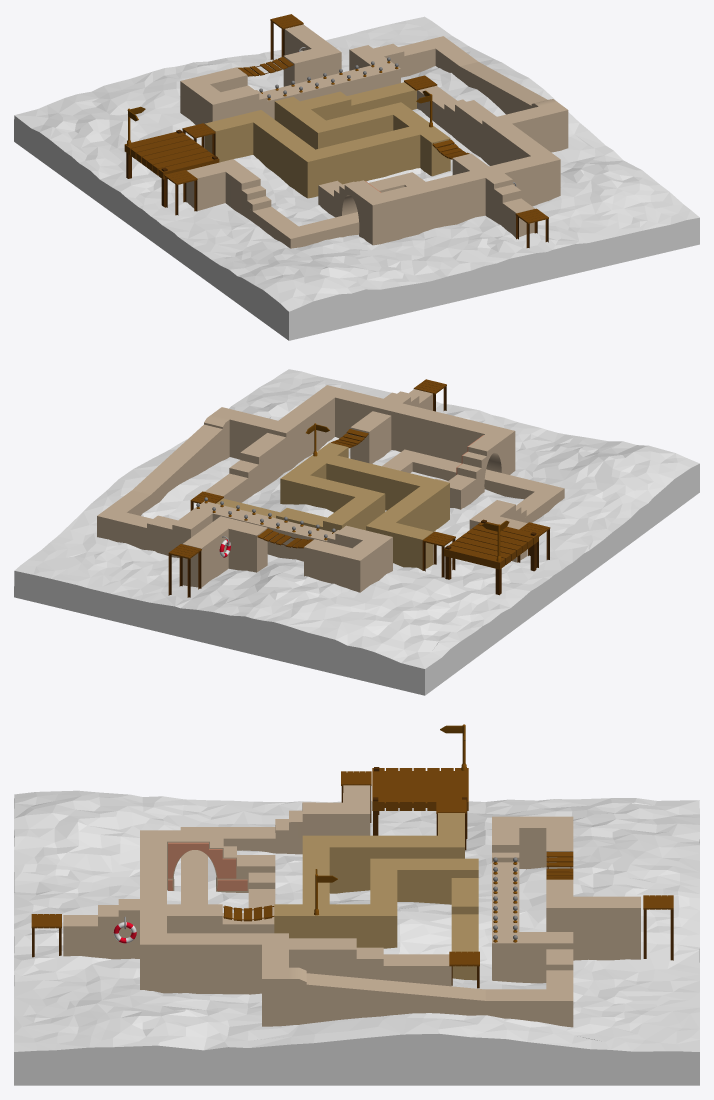
Rendered from Big_labyrinthe.fbx.
3 views of the same model, one above another, from view 1: azimuth 30°, elevation 25°; view 2: azimuth 150°, elevation 25°; view 3: azimuth 270°, elevation 25° (orthographic). The views are drawn at different scales.
Parts seen in each view (by area): view 1: Eau, Labyrinthe, Cube.003, Cube.002, Cube.001; view 2: Eau, Labyrinthe, Cube.003, Cube.002, Cube.001; view 3: Eau, Labyrinthe, Cube.003, Cube.002, Cube.001, Circle, Cube.
Part boxes in pixels (left/top/right/bottom): Eau: left=14, top=16, right=699, bottom=340; Labyrinthe: left=180, top=24, right=568, bottom=248; Cube.003: left=124, top=129, right=219, bottom=206; Cube.002: left=164, top=14, right=548, bottom=247; Cube.001: left=237, top=56, right=293, bottom=76; Eau: left=14, top=369, right=699, bottom=695; Labyrinthe: left=97, top=385, right=564, bottom=592; Cube.003: left=444, top=519, right=538, bottom=595; Cube.002: left=168, top=379, right=550, bottom=597; Cube.001: left=257, top=528, right=313, bottom=548; Eau: left=14, top=790, right=699, bottom=1085; Labyrinthe: left=63, top=785, right=640, bottom=1027; Cube.003: left=372, top=767, right=468, bottom=838; Cube.002: left=31, top=771, right=673, bottom=988; Cube.001: left=546, top=852, right=573, bottom=879; Circle: left=493, top=857, right=517, bottom=942; Cube: left=223, top=905, right=274, bottom=921.
Size of the model in its own units: 4372 by 1003 by 5066.
